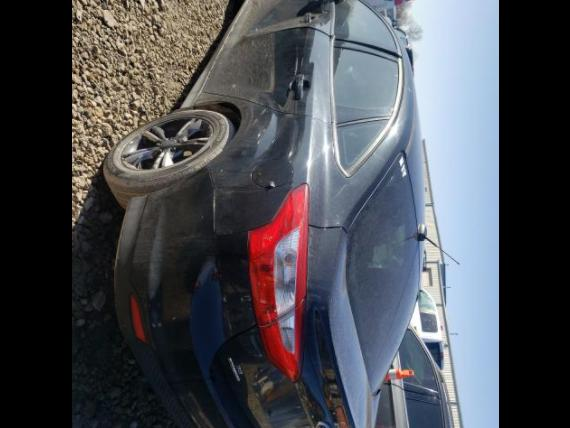Broken part: (332, 36, 403, 61)
Dent: (232, 0, 329, 36)
